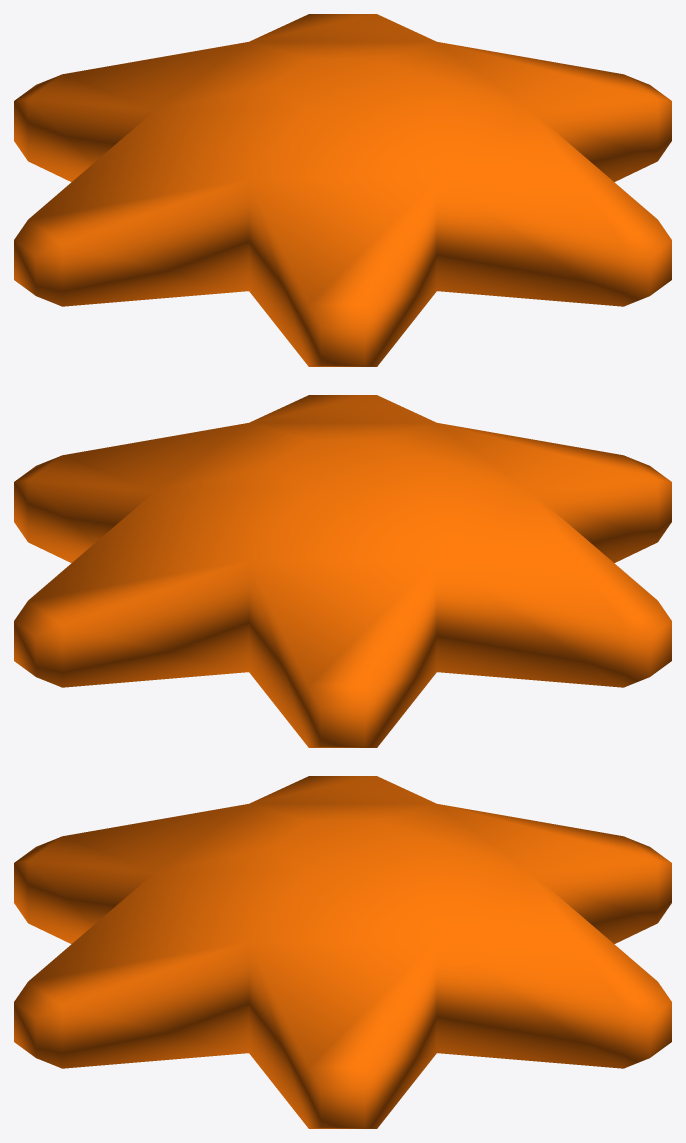
File: Coral_34.fbx
The picture shows the model from 3 angles, top to bottom: view 1: azimuth 30°, elevation 25°; view 2: azimuth 150°, elevation 25°; view 3: azimuth 270°, elevation 25°; orthographic projection.
Visible parts, largest first — view 1: Coral_34; view 2: Coral_34; view 3: Coral_34.
Boxes of the visible parts, x1,y1,x2,y2 form: Coral_34: (14,14,671,366); Coral_34: (14,395,671,747); Coral_34: (14,776,671,1128).
Size of the model in its own units: 40.78 by 8.42 by 36.54.
